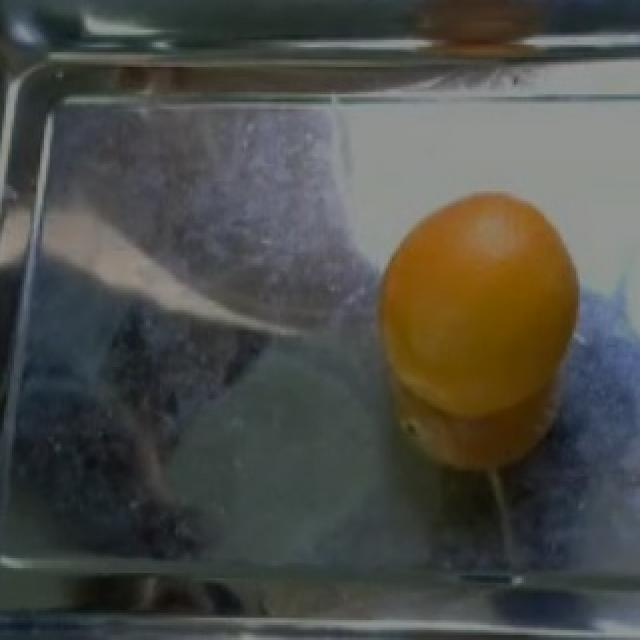Fruit: (362, 178, 590, 488)
